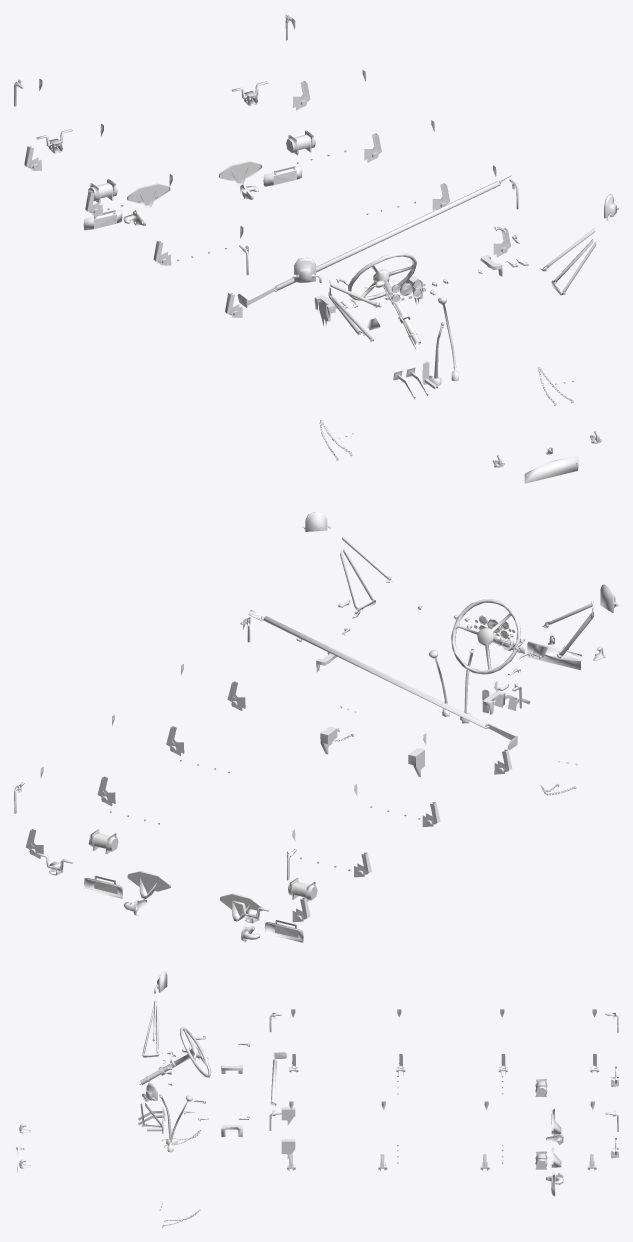
3 renders of one model, top to bottom at view 1: azimuth 30°, elevation 25°; view 2: azimuth 150°, elevation 25°; view 3: azimuth 270°, elevation 25°, orthographic. The views are drawn at different scales.
Size of the model in its own units: 2.93 by 1.84 by 6.4.
1 material, 1 textured.
